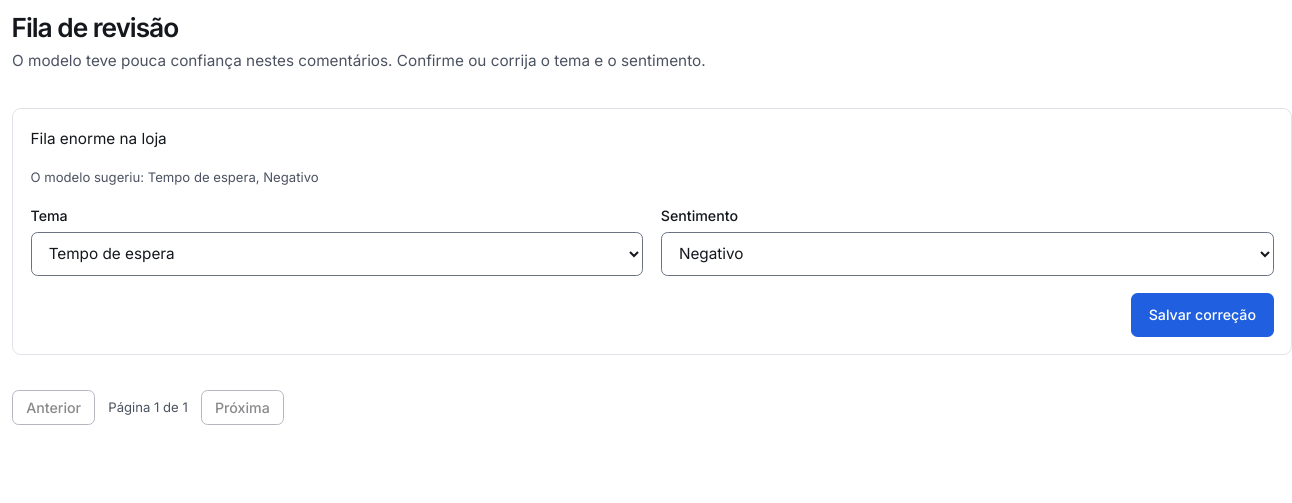
Test: FilaDeRevisaoPage › mostra o erro em português quando a correção é recusada
Click the button "Salvar correção": (1202, 315) [1131,293,1274,337]
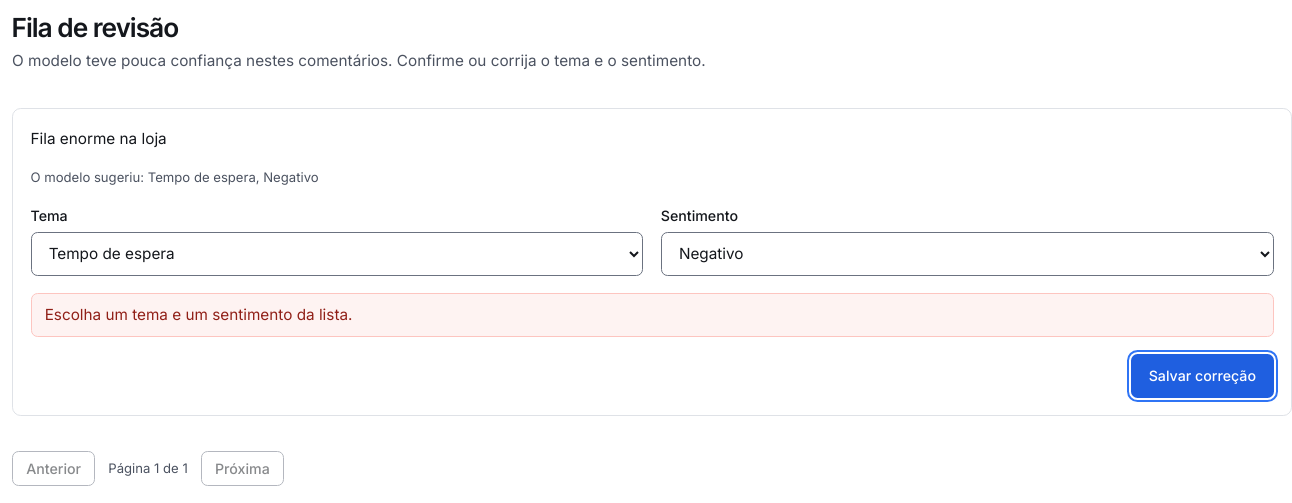
Expected: the text "Fila enorme na loja" is shown, [30,129,167,148]
Expected: the message reads "Escolha um tema e um sentimento da lista.", [45,305,352,324]
